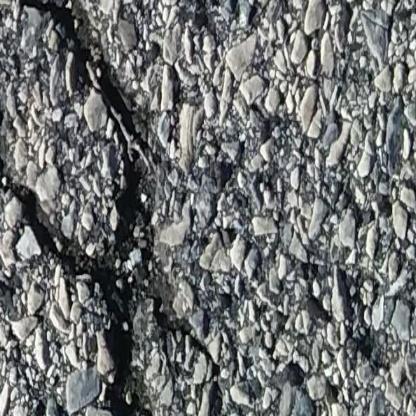Cracks: (0, 0, 224, 416)
